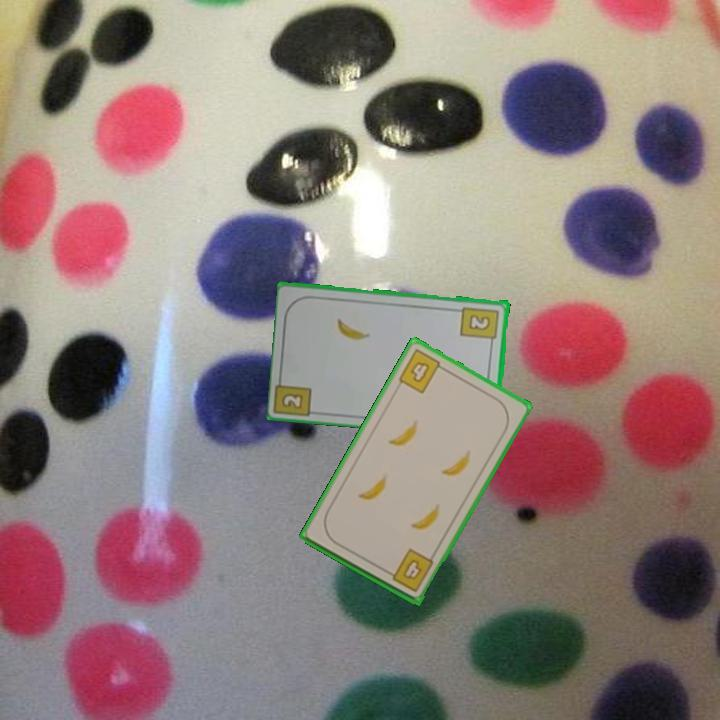2b: (458, 303, 502, 348), (278, 389, 306, 412)
4b: (395, 345, 449, 396), (382, 545, 436, 595)
